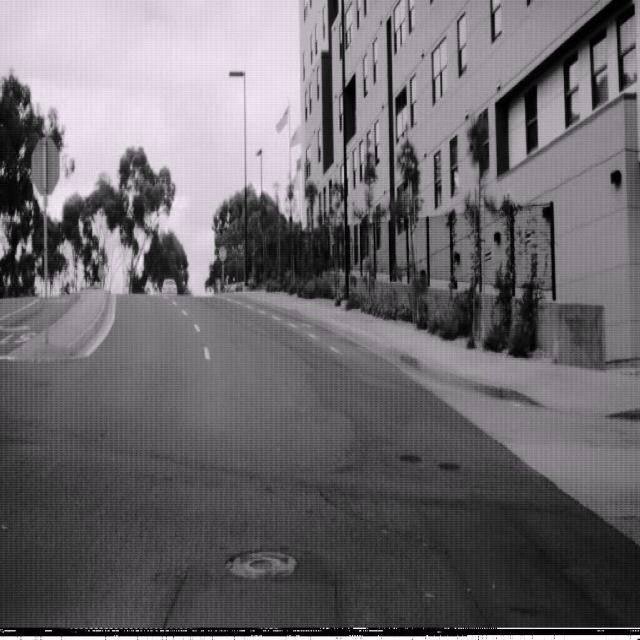stop: (218, 245, 227, 261)
